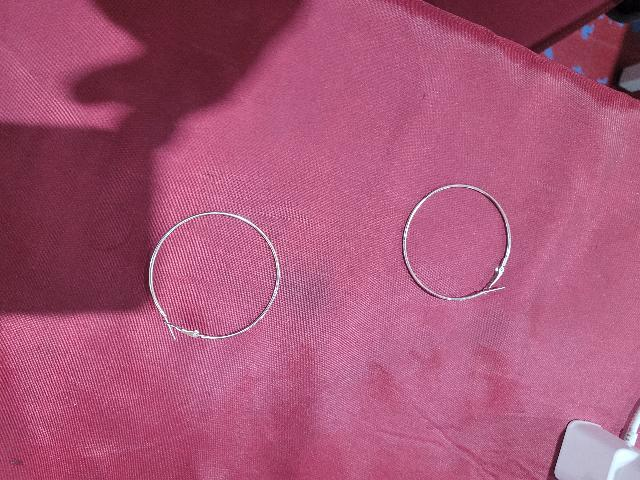Metal: (140, 205, 283, 348), (398, 178, 515, 307)
